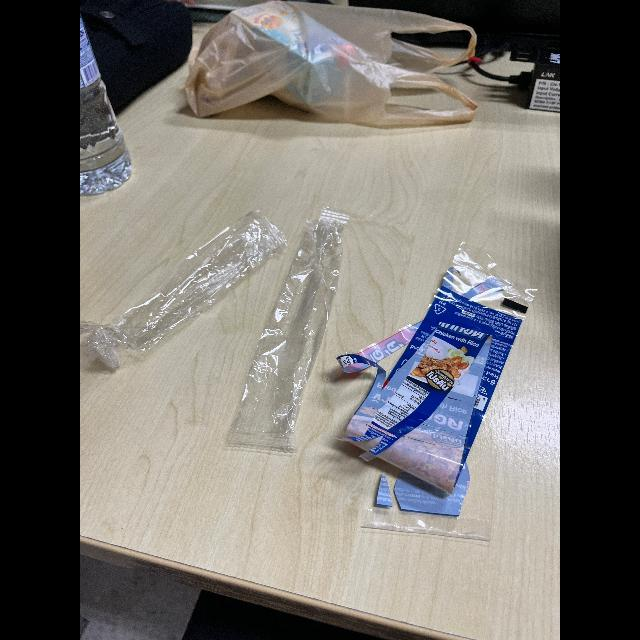scrap_plastic: (341, 242, 537, 552), (85, 202, 277, 384), (242, 206, 358, 467)
